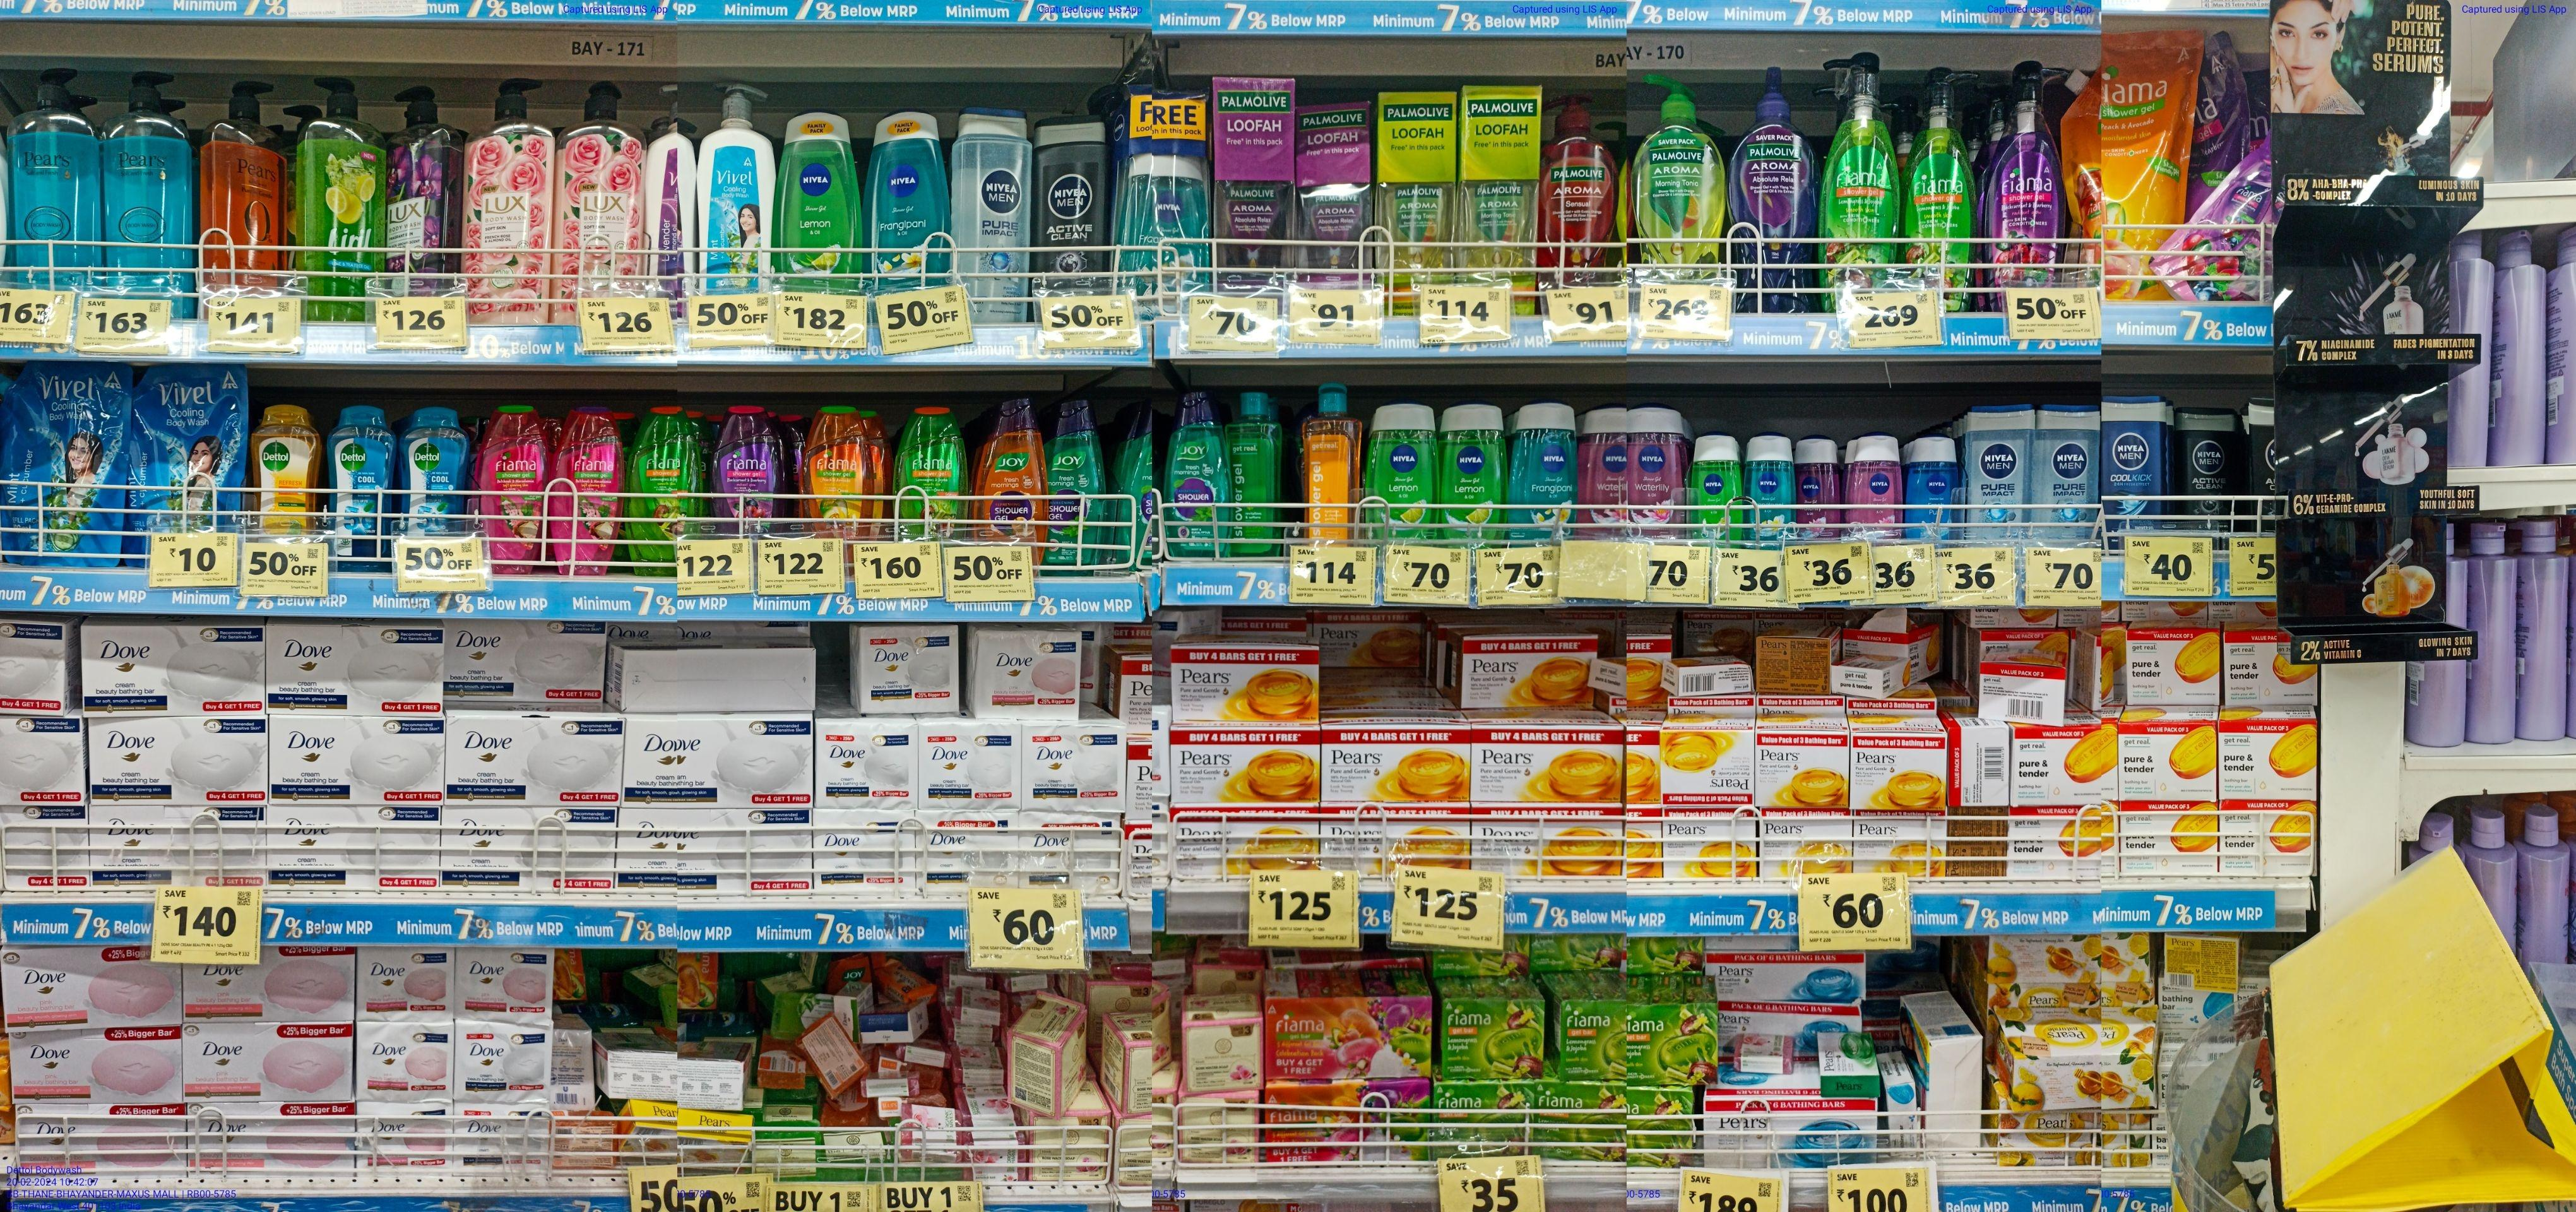Dettol_Bodywash_Cool: (325, 402, 396, 545), (402, 401, 470, 535)
Dettol_Bodywash_Refresh: (251, 402, 319, 537)
Fiama_Shower_Gel_Lemongrass_and_Jojoba_250ML: (890, 404, 968, 540)
Fiama_Shower_Gel_Patchouli_and_Macadamia_250ML: (544, 402, 623, 575), (480, 401, 541, 572)
Fiama_Shower_Gel_Peach_and_Avocado_250ML: (628, 399, 703, 542), (800, 402, 876, 537)
Joy_Shower_Gel_Mandarin_and_Lemongrass_250ML: (979, 401, 1043, 539)
Joy_Shower_Gel_Mint_and_Eucalyptus_250ML: (1166, 393, 1235, 562), (1048, 404, 1104, 575)
Nivea_Shower_Gel_Frangipani_and_Oil_250ML: (869, 110, 953, 282), (1506, 404, 1582, 544)
Nivea_Shower_Gel_Lemon_and_Oil_250ML: (774, 113, 862, 287), (1437, 402, 1503, 547), (1368, 399, 1431, 540)
Nivea_Shower_Gel_Waterlily_and_Oil_250ML: (1628, 404, 1682, 537)
